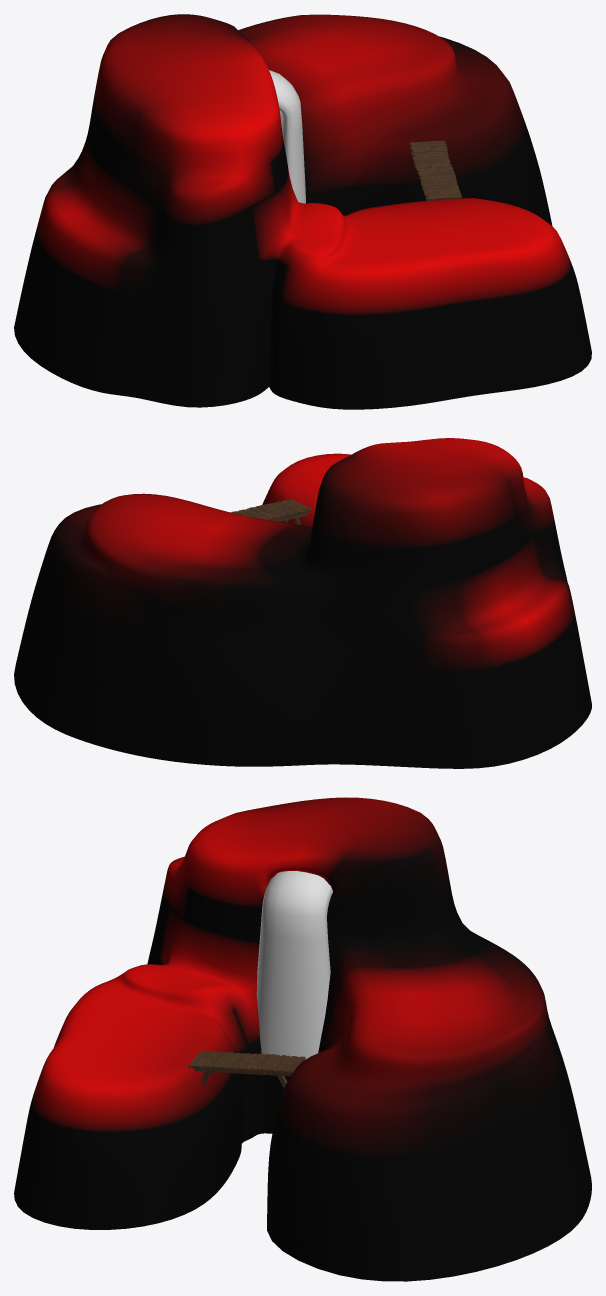
The model's file is terrain.glb.
3 views of the same model, one above another, from view 1: azimuth 30°, elevation 25°; view 2: azimuth 150°, elevation 25°; view 3: azimuth 270°, elevation 25° (orthographic). The views are drawn at different scales.
Visible parts, largest first — view 1: main_ground, waterfall, bridge; view 2: main_ground, bridge; view 3: main_ground, waterfall, bridge.
Part boxes in pixels (left/top/right/bottom): main_ground: left=14, top=14, right=591, bottom=409; waterfall: left=269, top=70, right=305, bottom=203; bridge: left=409, top=140, right=461, bottom=200; main_ground: left=14, top=438, right=591, bottom=768; bridge: left=230, top=499, right=311, bottom=524; main_ground: left=14, top=797, right=591, bottom=1281; waterfall: left=256, top=871, right=332, bottom=1059; bridge: left=188, top=1050, right=305, bottom=1088.
Size of the model in its own units: 51.32 by 24.21 by 46.78.
Materials: 1 (1 with a texture image).
